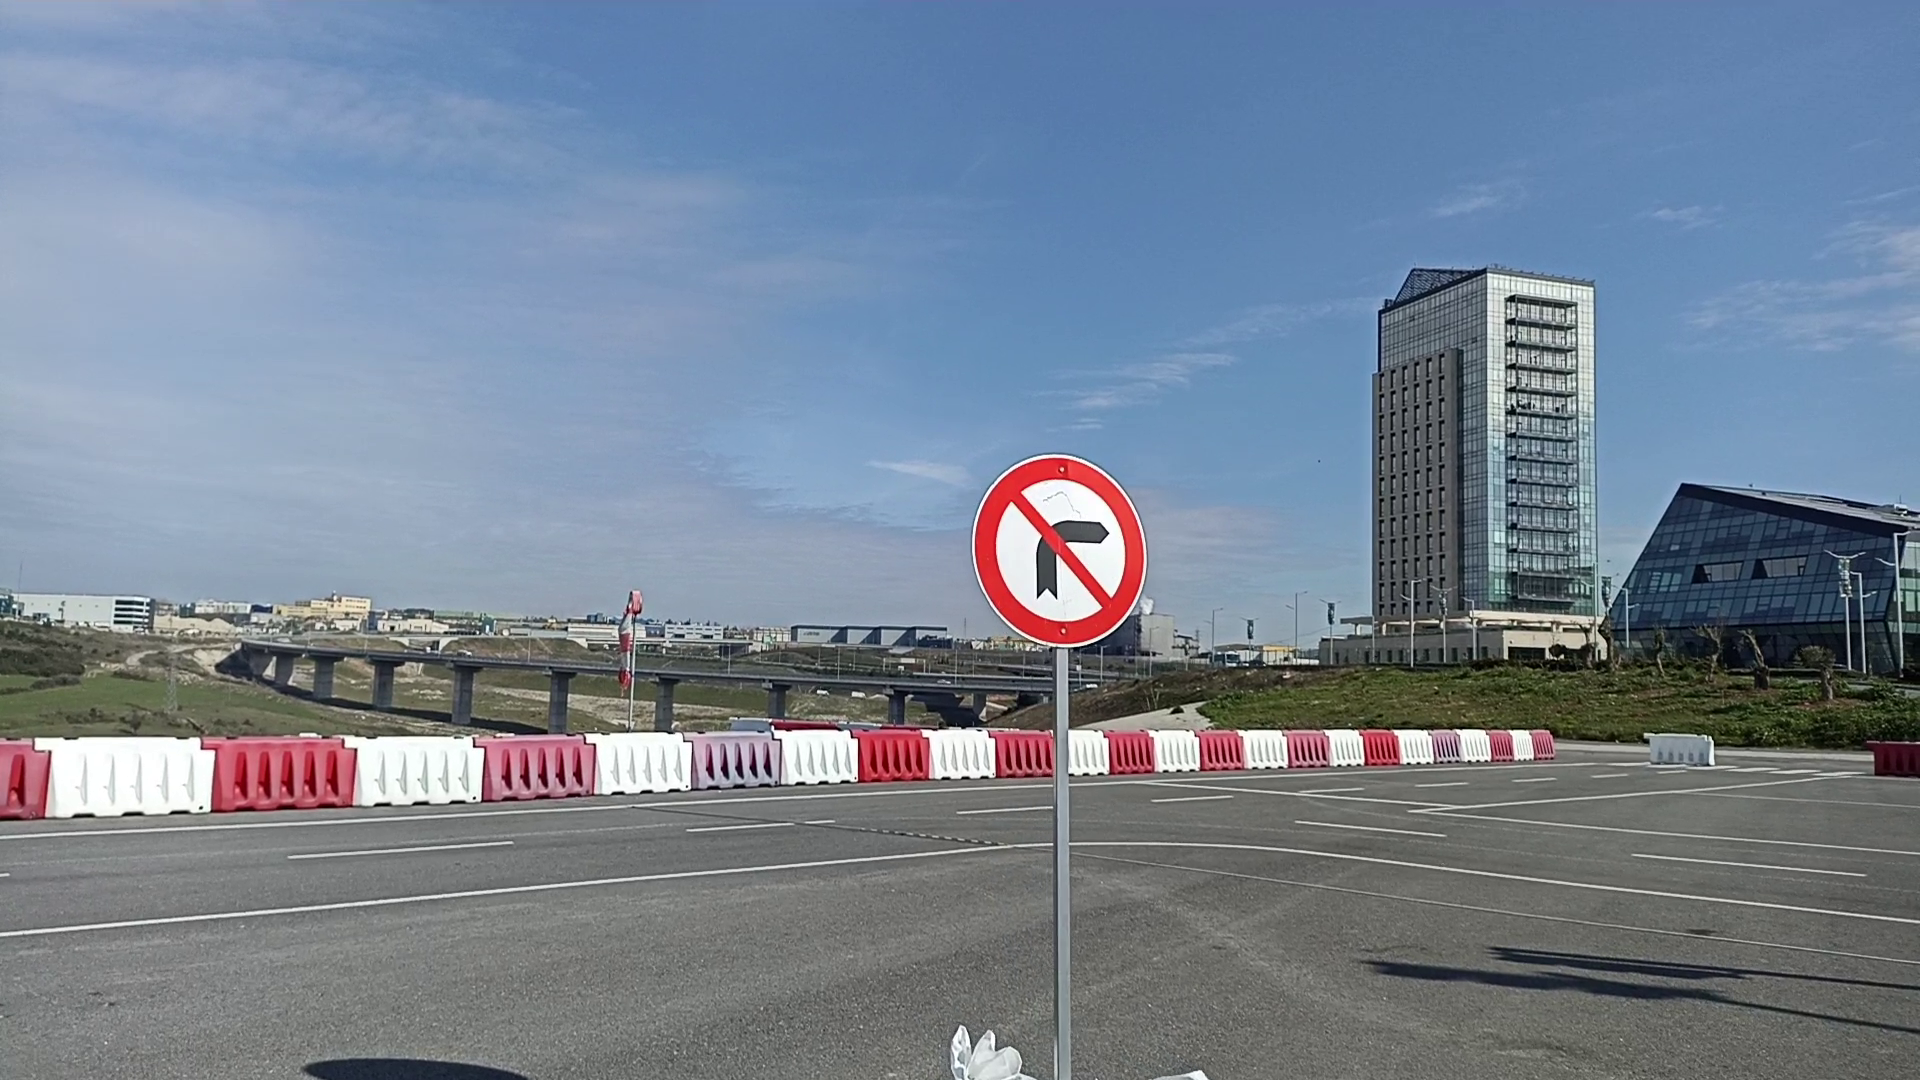noleftturn: (968, 452, 1153, 654)
